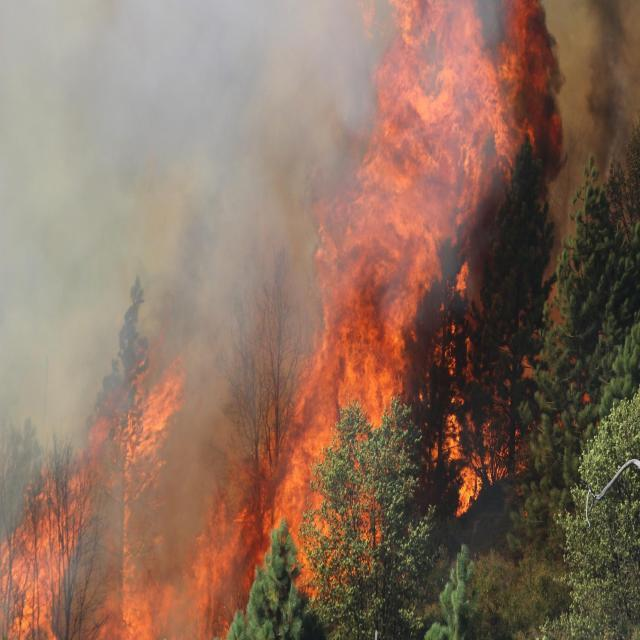Fire: (0, 0, 562, 640)
Smoke: (1, 0, 397, 640), (584, 0, 640, 183)
